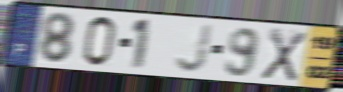0: (81, 15, 118, 67)
1: (130, 18, 153, 70)
8: (37, 10, 77, 66)
9: (223, 26, 261, 78)
J: (173, 22, 215, 74)
X: (259, 26, 309, 84)
